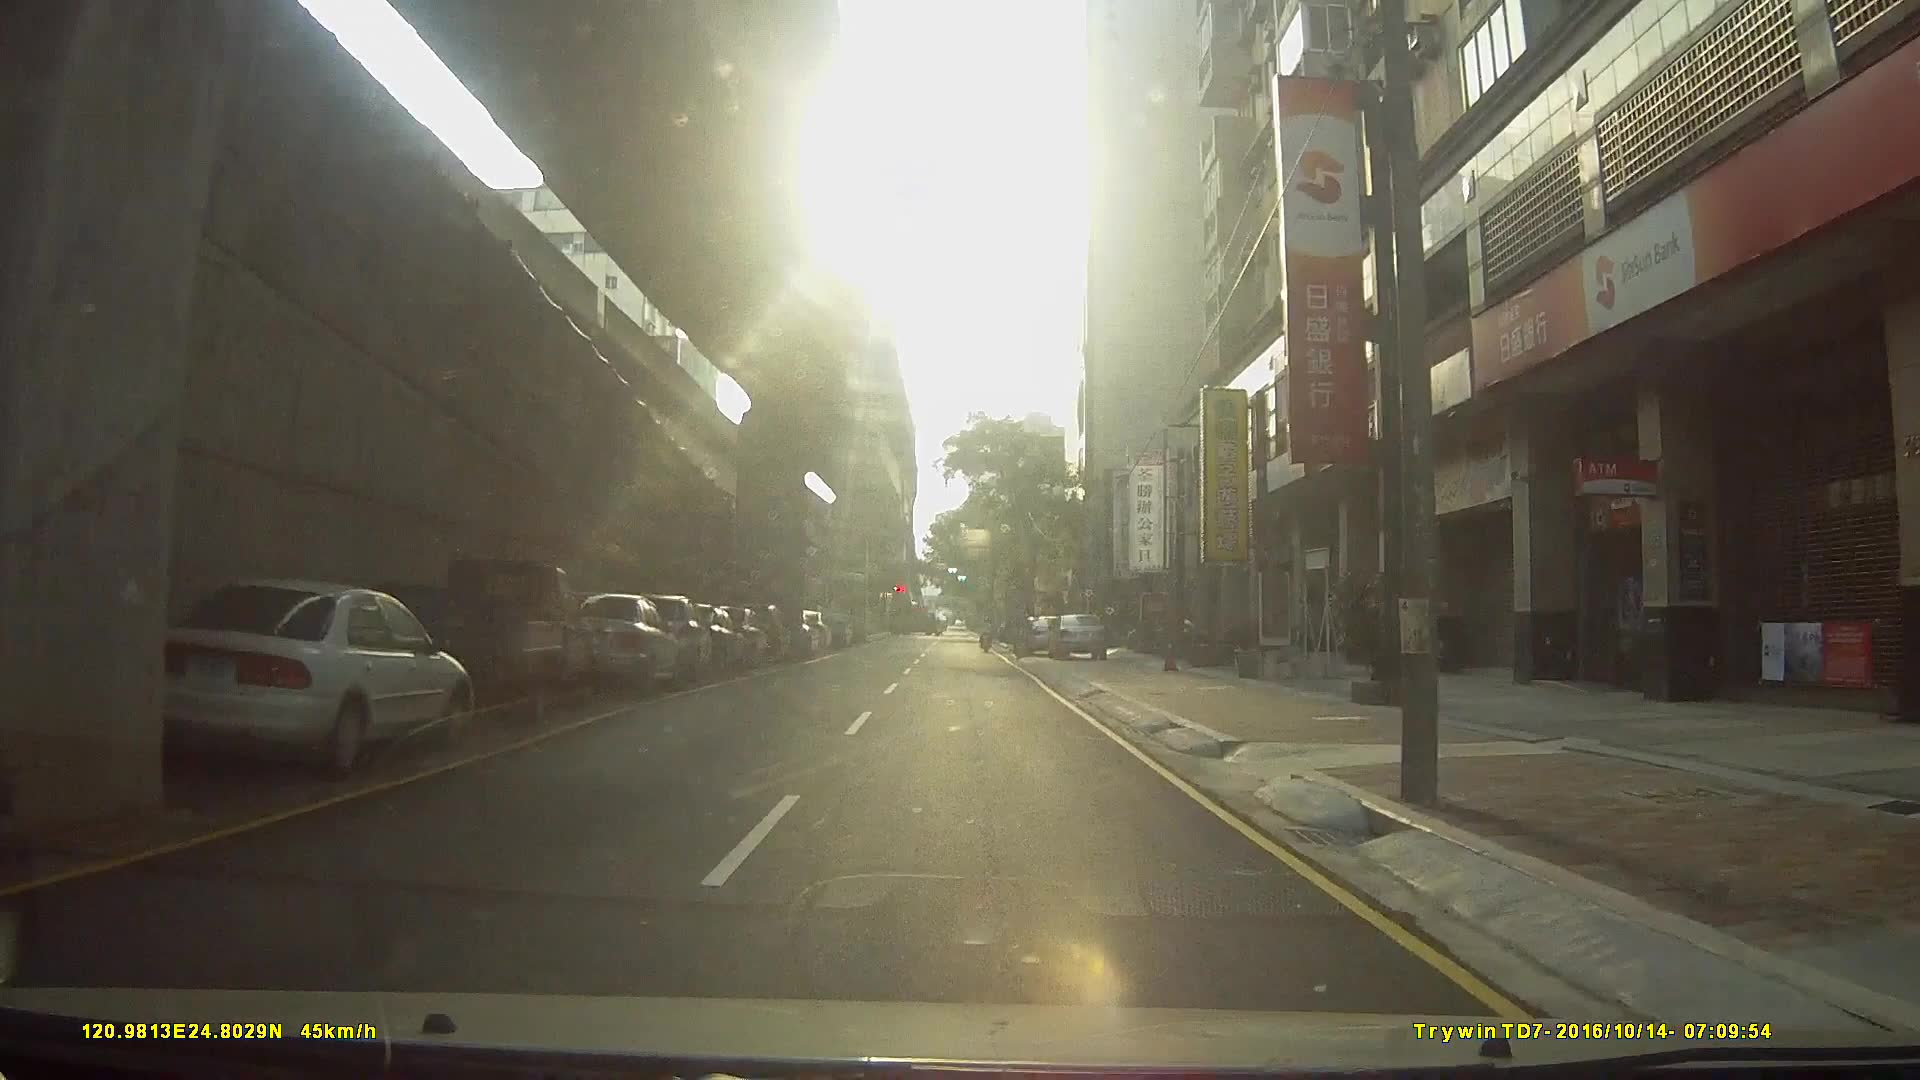vehicle: (131, 582, 465, 785), (371, 553, 597, 713), (541, 592, 682, 700), (597, 612, 729, 700), (659, 620, 794, 670), (1044, 611, 1109, 659)
